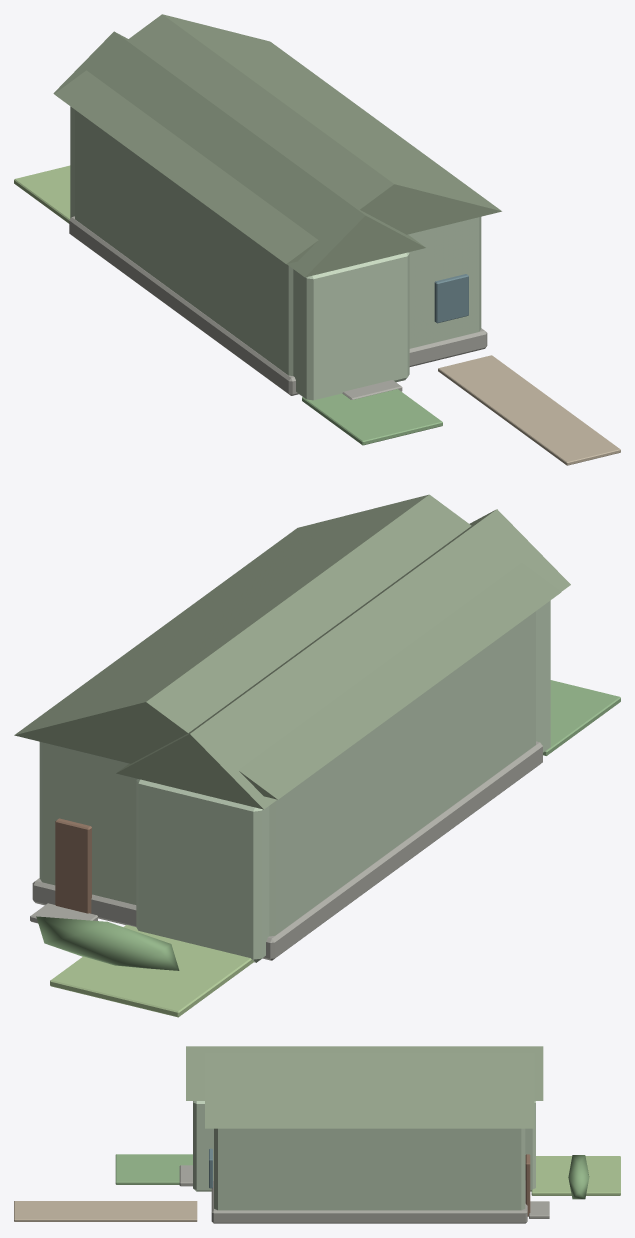
The picture shows the model from 3 angles, top to bottom: view 1: azimuth 30°, elevation 25°; view 2: azimuth 150°, elevation 25°; view 3: azimuth 270°, elevation 25°; orthographic projection. The views are drawn at different scales.
Visible parts, largest first — view 1: MainRoof, MainBody, CrossWingRoof, CrossWing, Driveway, StonePlinth, FrontGreenVerge, RearYardPatch, FrontWindow1; view 2: MainRoof, MainBody, CrossWingRoof, CrossWing, StonePlinth, RearYardPatch, RearHedge, ServiceDoor, FrontGreenVerge; view 3: MainBody, MainRoof, StonePlinth, CrossWingRoof, Driveway, RearYardPatch, FrontGreenVerge, CrossWing, RearHedge, ServiceStep, ServiceDoor, PublicStep.
Boxes of the visible parts, x1,y1,x2,y2 form: MainRoof: (54, 14, 501, 264); MainBody: (75, 110, 481, 375); CrossWingRoof: (53, 31, 425, 277); CrossWing: (70, 106, 409, 400); Driveway: (438, 355, 620, 465); StonePlinth: (69, 216, 487, 395); FrontGreenVerge: (302, 389, 442, 445); RearYardPatch: (14, 165, 70, 223); FrontWindow1: (434, 274, 468, 323); MainRoof: (14, 494, 561, 799); MainBody: (39, 611, 535, 936); CrossWingRoof: (116, 509, 570, 809); CrossWing: (136, 600, 550, 962); StonePlinth: (32, 741, 542, 960); RearYardPatch: (50, 925, 253, 1017); RearHedge: (36, 916, 179, 970); ServiceDoor: (55, 818, 91, 913); FrontGreenVerge: (543, 680, 620, 755); MainBody: (214, 1128, 525, 1210); MainRoof: (205, 1053, 534, 1128); StonePlinth: (211, 1180, 527, 1223); CrossWingRoof: (186, 1046, 543, 1100); Driveway: (14, 1201, 197, 1221); RearYardPatch: (531, 1156, 620, 1195); FrontGreenVerge: (115, 1154, 192, 1184); CrossWing: (193, 1101, 535, 1191); RearHedge: (568, 1155, 589, 1199); ServiceStep: (529, 1201, 549, 1218); ServiceDoor: (525, 1154, 530, 1216); PublicStep: (179, 1165, 192, 1186).
Bounding box in the file's own units: 6.95 × 5.92 × 23.79.
